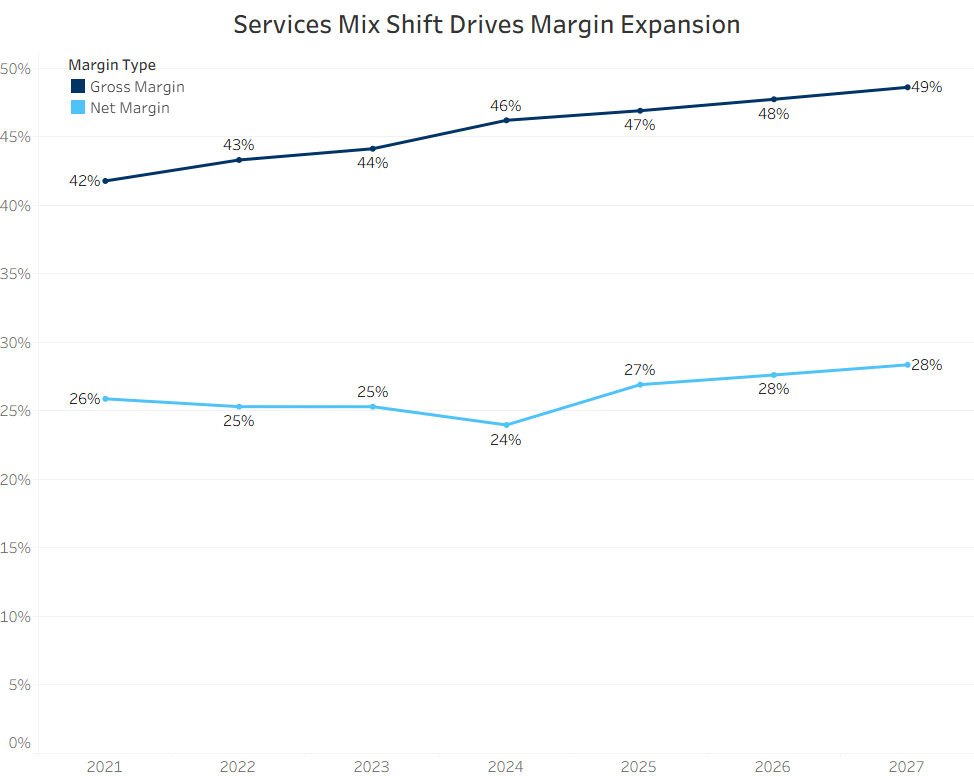

This screenshot's page, from the dashboard's own definition file:
{"tool":"tableau","page":{"name":"Margin Trend Dashboard","canvas":[1000,800],"ordinal":2},"visuals":[{"type":"worksheet","title":"Margin Trend","mark":"Line","cols":["Year"],"box":[8,8,984,784]},{"type":"legend","title":"Margin Trend","param":"[federated.078z7iw1nqpfyc106ynqp1q8m5t3].[:Measure Names]","box":[81,64,183,64]}]}

Visuals, with their boxes in screenshot pixels (x1, y1, x2, y2), scaled from the page's 1000x800 canvas onto the 974x776 screenshot:
"Margin Trend" worksheet (Line marks): <bbox>8, 8, 966, 768</bbox>
"Margin Trend" legend: <bbox>79, 62, 257, 124</bbox>
